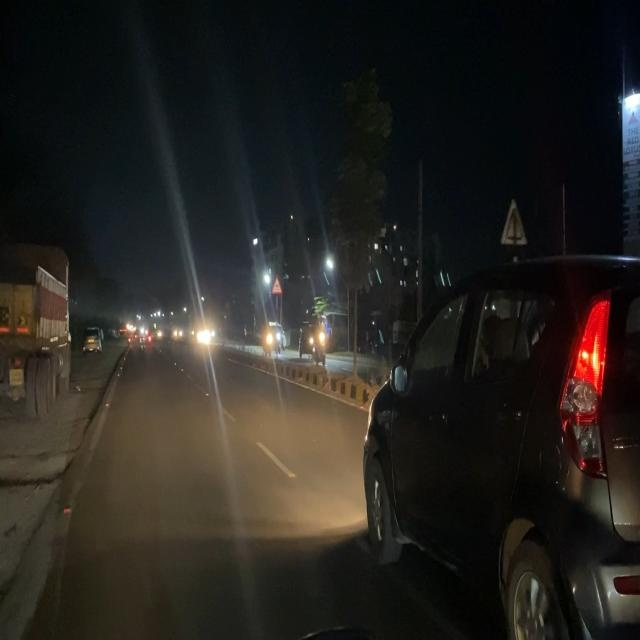bien_nguy_hiem: (272, 274, 282, 296)
